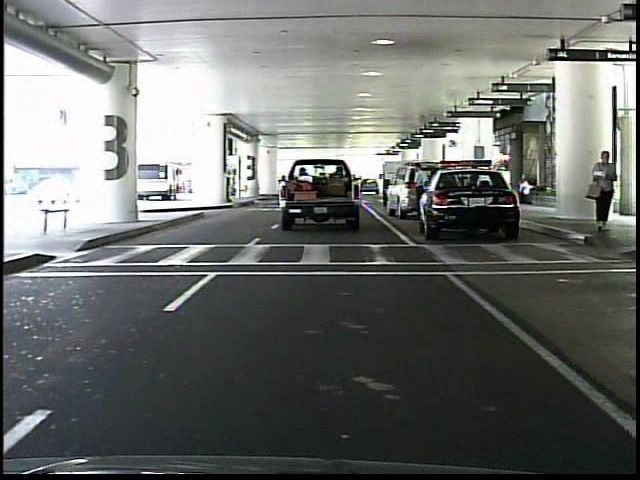person: (586, 146, 621, 237), (409, 160, 433, 224)
